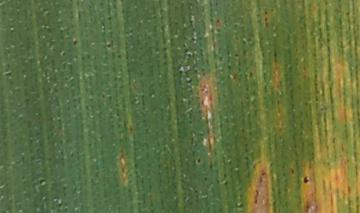tarspot: (301, 175, 311, 184), (194, 157, 203, 166), (264, 16, 271, 24), (263, 8, 269, 17)
